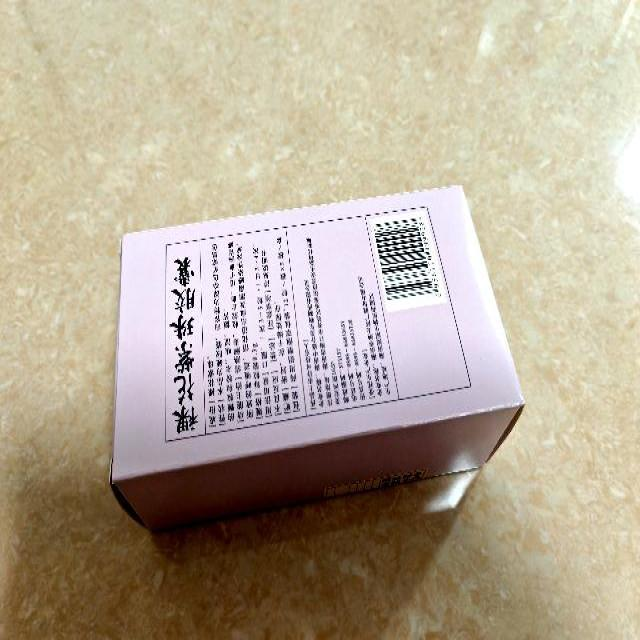box: (108, 184, 524, 536)
